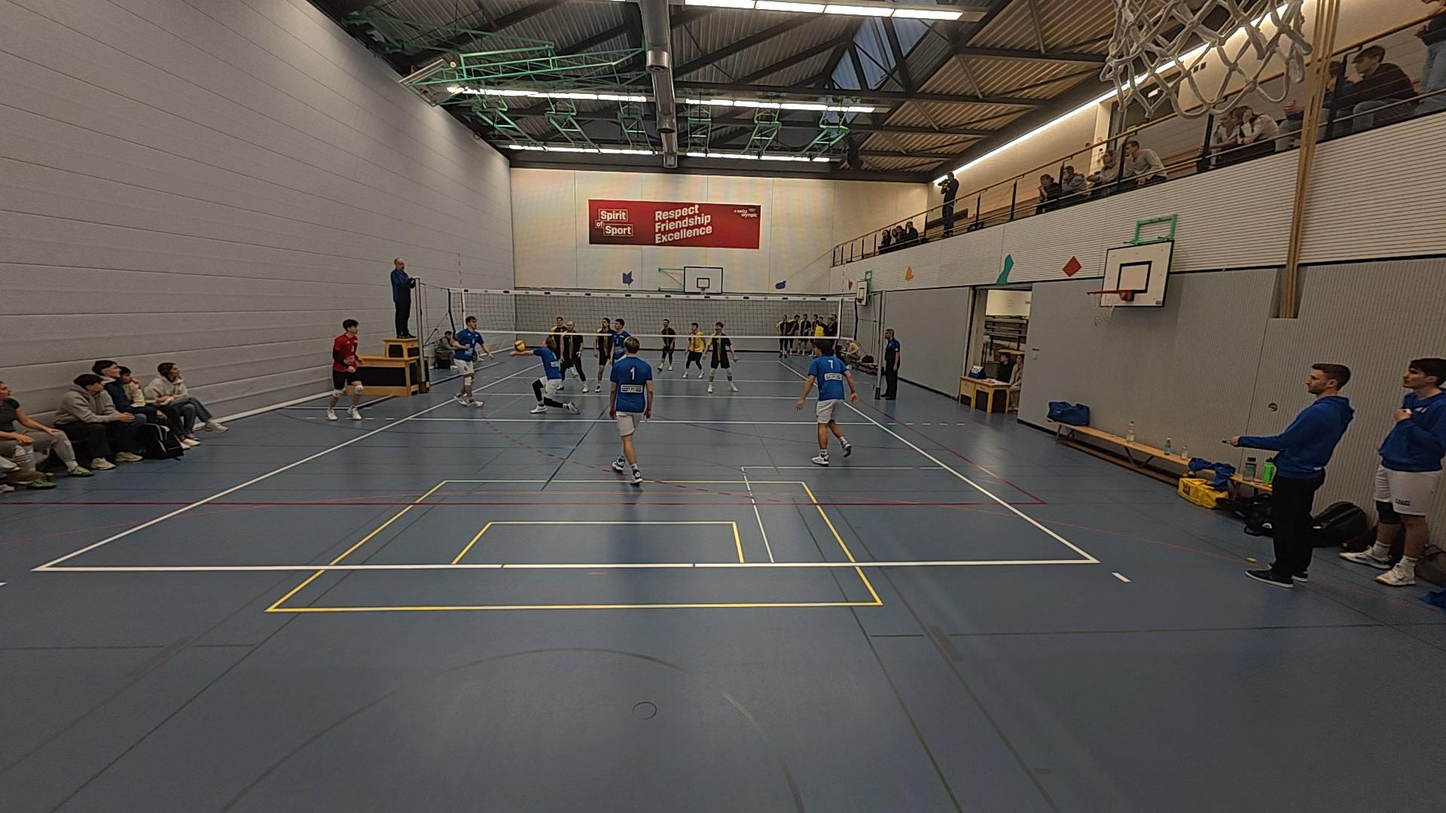Dig: (519, 332, 581, 416)
Player: (795, 341, 857, 466), (606, 339, 655, 484), (325, 319, 368, 422), (452, 315, 488, 406), (555, 317, 590, 394), (584, 319, 615, 394), (706, 321, 737, 394), (610, 318, 638, 367), (685, 321, 707, 379), (658, 317, 679, 373)
ball: (902, 264, 917, 281), (514, 340, 529, 353)
